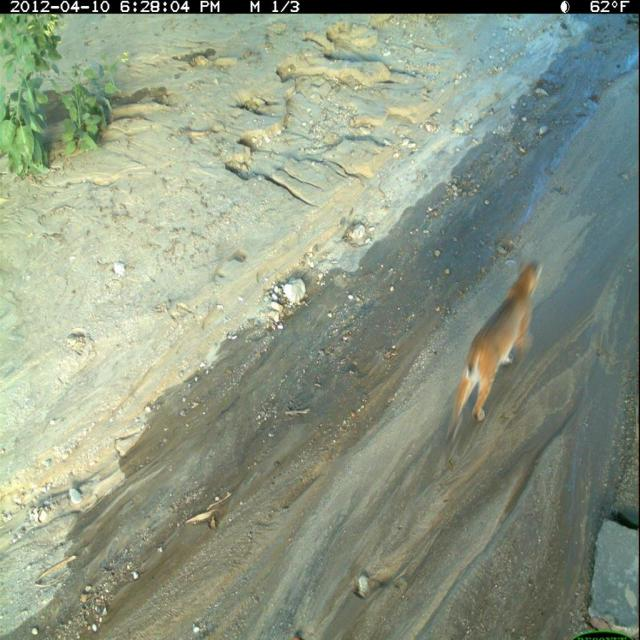bobcat: (443, 250, 545, 447)
